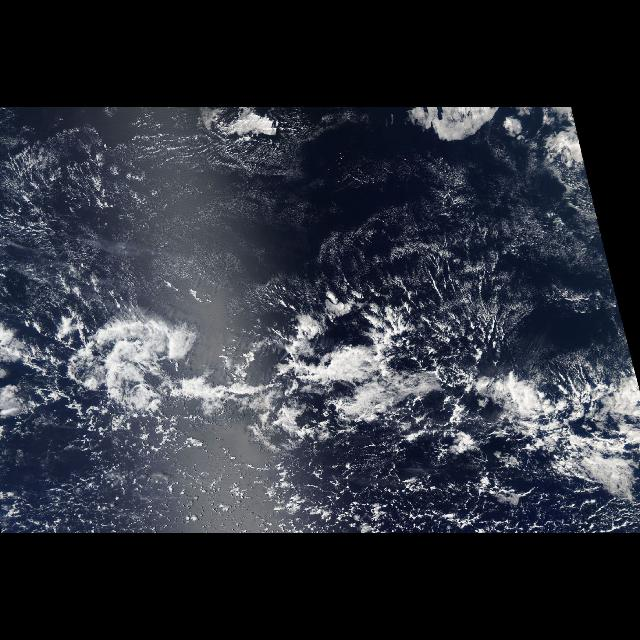Fish: (4, 280, 640, 500)
Gravel: (1, 409, 636, 531)
Sugar: (2, 140, 540, 316)
